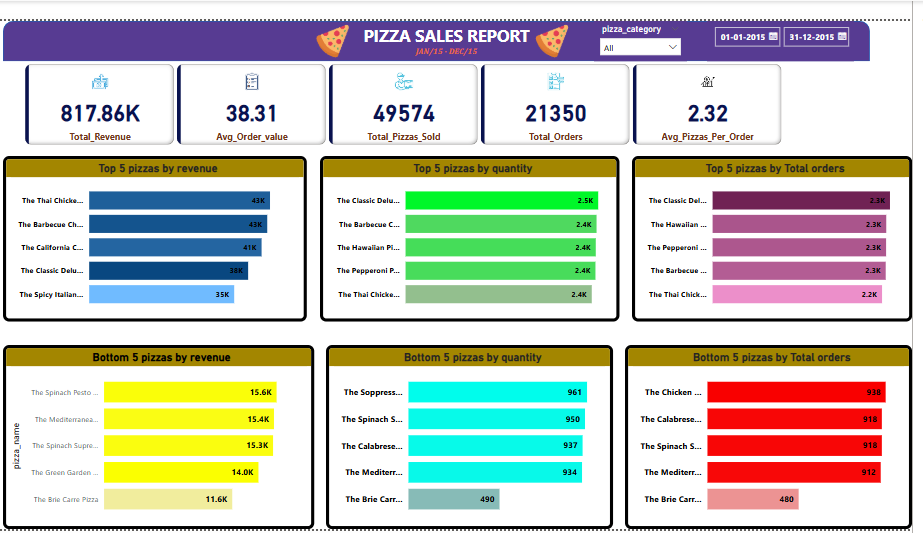

This screenshot's page, from the dashboard's own definition file:
{"tool":"powerbi","page":{"name":"Best seller/ Worst seller","canvas":[1500,820],"ordinal":1},"visuals":[{"type":"cardVisual","fields":{"Data":["pizza_sales.Total_Revenue","pizza_sales.Avg_Order_value","pizza_sales.Total_Pizzas_Sold","pizza_sales.Total_Orders","pizza_sales.Avg_Pizzas_Per_Order"]},"box":[65,65,1230,140],"z":0},{"type":"shape","box":[33.3,0,1398.3,65],"z":1000},{"type":"textbox","box":[553.3,0,391.7,65],"z":2000},{"type":"textbox","box":[680,33.3,136.7,31.7],"z":3000},{"type":"image","box":[450,0,230,65],"z":4000},{"type":"image","box":[775,0,286.7,65],"z":5000},{"type":"barChart","title":"Top 5 pizzas by revenue","fields":{"Category":["pizza_sales.pizza_name"],"Y":["pizza_sales.Total_Revenue"]},"box":[33.3,218.3,490,266.7],"z":6000},{"type":"barChart","title":"Top 5 pizzas by quantity","fields":{"Category":["pizza_sales.pizza_name"],"Y":["Sum(pizza_sales.quantity)"]},"box":[545,218.3,483.3,266.7],"z":7000},{"type":"barChart","title":"Bottom 5 pizzas by revenue","fields":{"Category":["pizza_sales.pizza_name"],"Y":["pizza_sales.Total_Revenue"]},"box":[33.3,523.3,501.7,296.7],"z":8000},{"type":"slicer","fields":{"Values":["pizza_sales.pizza_category"]},"box":[986.7,0,150,65],"z":11000},{"type":"slicer","fields":{"Values":["pizza_sales.order_date"]},"box":[1170,0,236.7,65],"z":12000},{"type":"barChart","title":"Top 5 pizzas by Total orders","fields":{"Category":["pizza_sales.pizza_name"],"Y":["pizza_sales.Total_Orders"]},"box":[1048.3,218.3,451.7,266.7],"z":12001},{"type":"barChart","title":"Bottom 5 pizzas by quantity","fields":{"Category":["pizza_sales.pizza_name"],"Y":["Sum(pizza_sales.quantity)"]},"box":[555,523.3,463.3,296.7],"z":12002},{"type":"barChart","title":"Bottom 5 pizzas by Total orders","fields":{"Category":["pizza_sales.pizza_name"],"Y":["pizza_sales.Total_Orders"]},"box":[1036.7,523.3,463.3,296.7],"z":12003}]}

Visuals, with their boxes on the page's 1500x820 design canvas (x1, y1, x2, y2). These are canvas units, not pixel positions in the 923x533 screenshot, which may show the page scaled, cropped or inside an application window:
cardVisual - pizza_sales.Total_Revenue x pizza_sales.Avg_Order_value: (65,65,1295,205)
shape: (33,0,1432,65)
textbox: (553,0,945,65)
textbox: (680,33,817,65)
image: (450,0,680,65)
image: (775,0,1062,65)
"Top 5 pizzas by revenue" barChart: (33,218,523,485)
"Top 5 pizzas by quantity" barChart: (545,218,1028,485)
"Bottom 5 pizzas by revenue" barChart: (33,523,535,820)
slicer - pizza_sales.pizza_category: (987,0,1137,65)
slicer - pizza_sales.order_date: (1170,0,1407,65)
"Top 5 pizzas by Total orders" barChart: (1048,218,1500,485)
"Bottom 5 pizzas by quantity" barChart: (555,523,1018,820)
"Bottom 5 pizzas by Total orders" barChart: (1037,523,1500,820)
